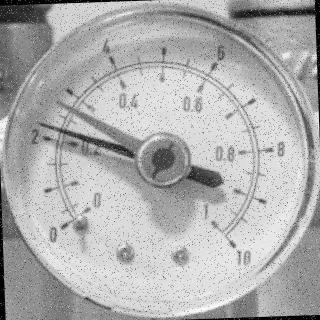gauge: (0, 0, 320, 320), (43, 186, 112, 254), (134, 129, 194, 191), (199, 220, 255, 272), (51, 95, 66, 111), (34, 118, 50, 130)
